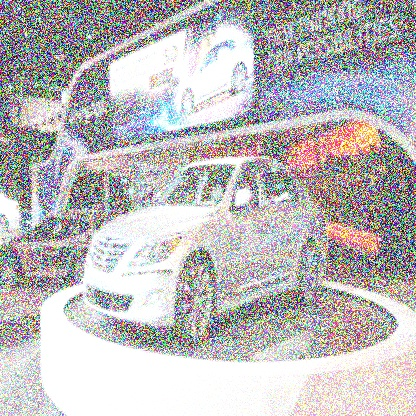Vehicle: (83, 160, 327, 346)
